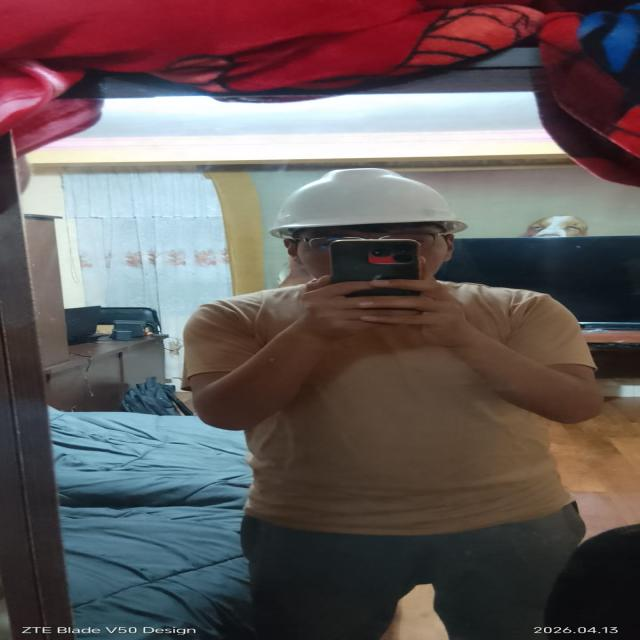casco: (225, 163, 519, 248)
